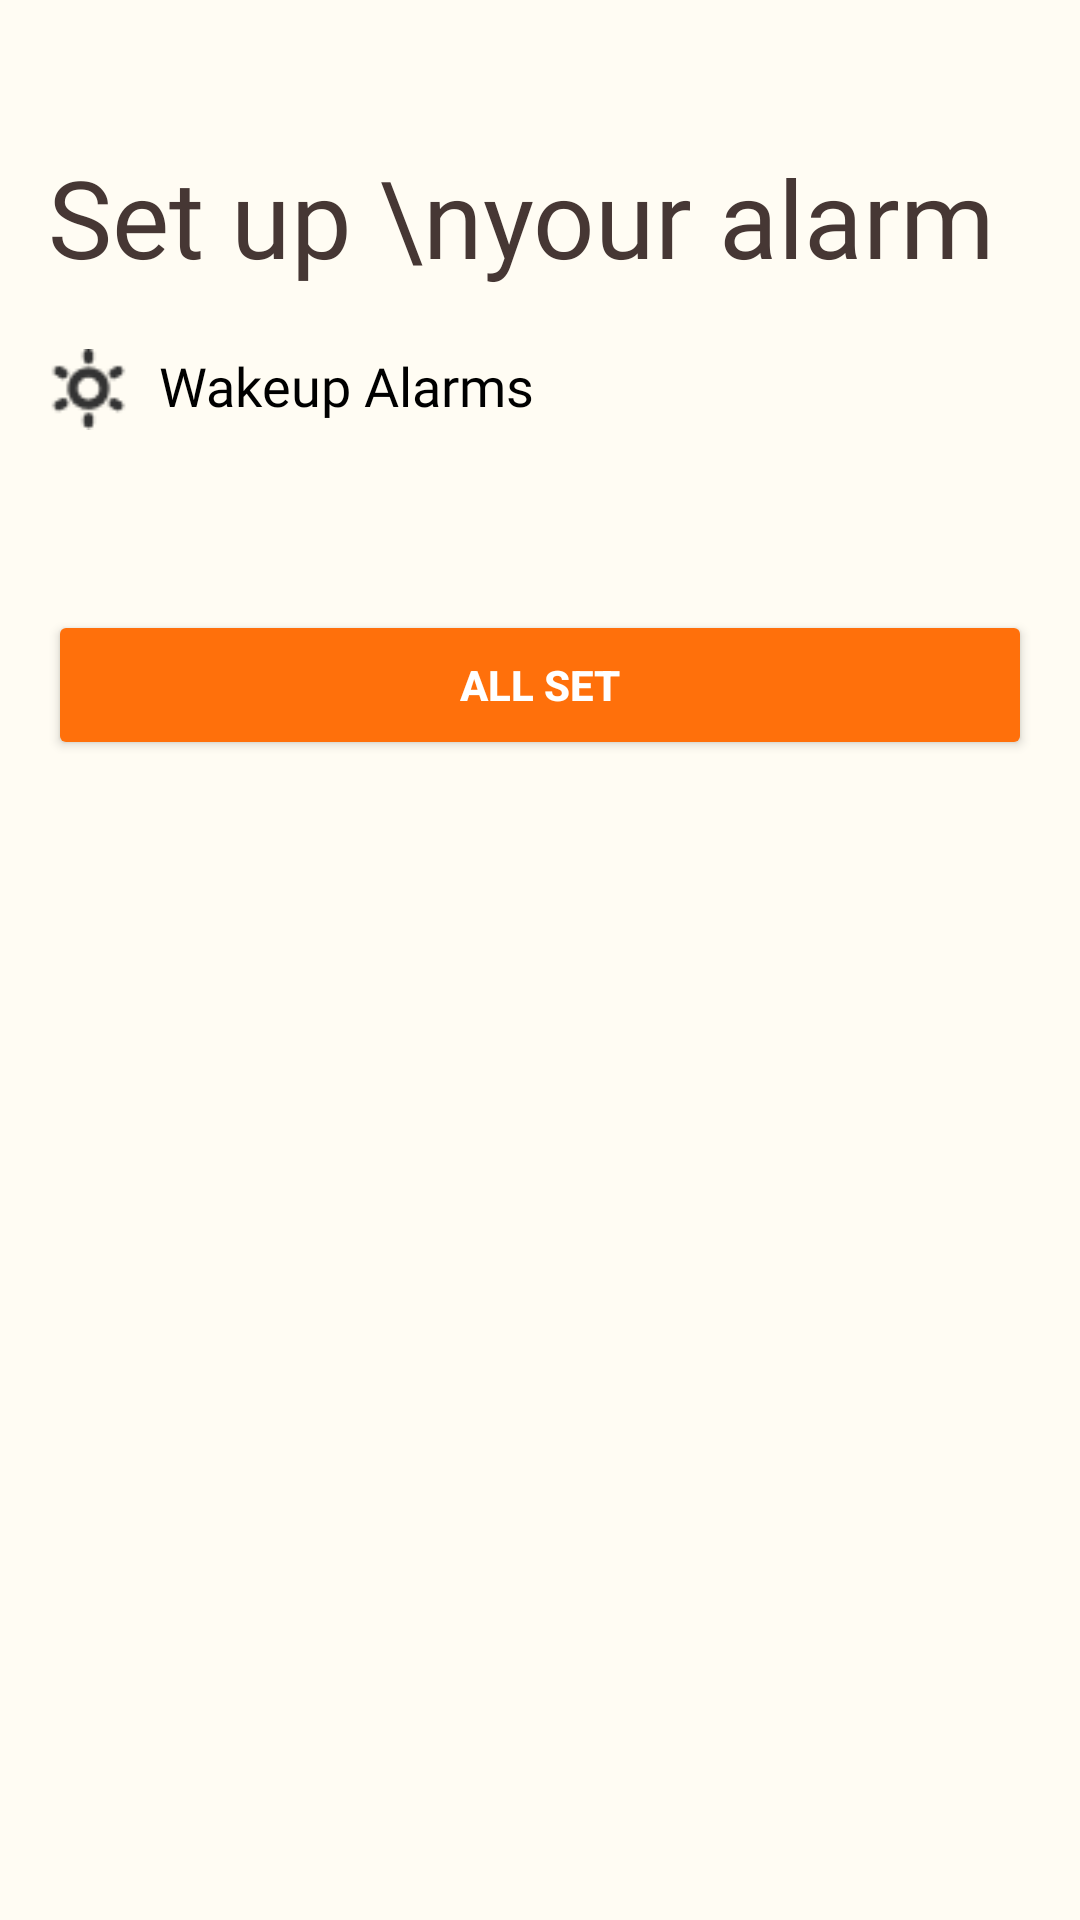

Icon click points for this 1080px×1920px phone screenshot, format point (x, y):
sun: point (88, 389)
